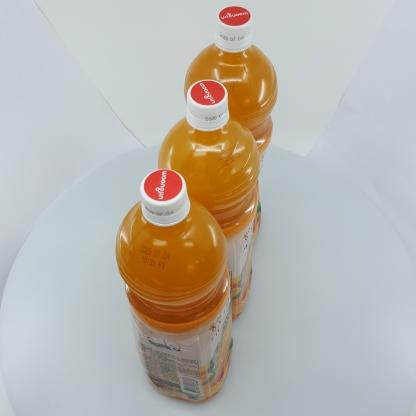----------1-5L: (115, 169, 233, 403)
